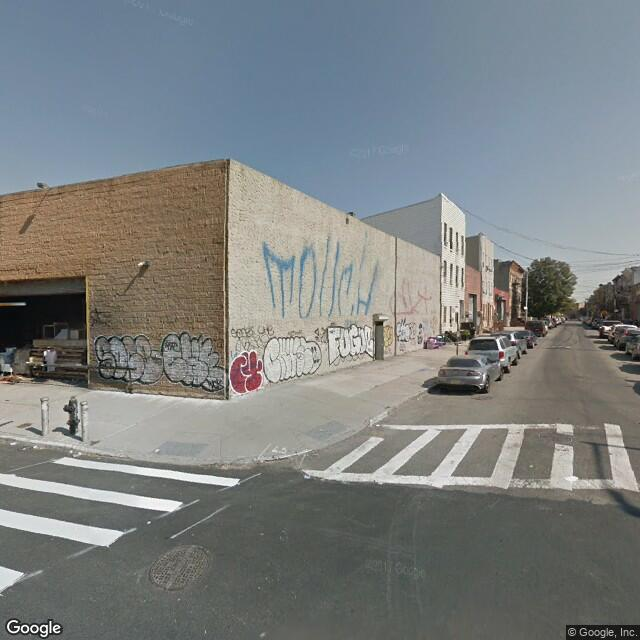litter: (6, 439, 20, 449), (563, 475, 579, 482), (70, 449, 80, 460), (33, 445, 44, 451), (153, 448, 162, 453)
